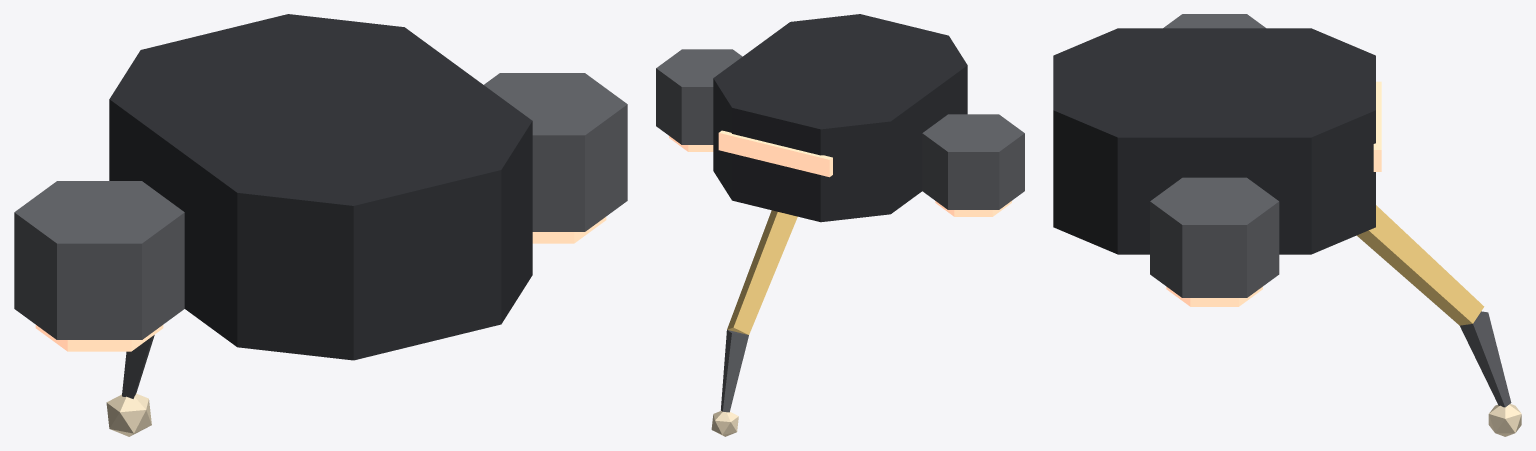
The model's file is Build_AegisWelder.fbx.
3 views of the same model, side by side, from view 1: azimuth 30°, elevation 25°; view 2: azimuth 150°, elevation 25°; view 3: azimuth 270°, elevation 25° (orthographic). The views are drawn at different scales.
Visible parts, largest first — view 1: AWeld_Body, AWeld_Thruster-1, AWeld_Thruster1, AWeld_Spark, AWeld_ThrustGlow-1, AWeld_Torch, AWeld_ThrustGlow1; view 2: AWeld_Body, AWeld_Thruster-1, AWeld_Thruster1, AWeld_ArmA, AWeld_Eye, AWeld_Torch, AWeld_Spark, AWeld_ThrustGlow-1; view 3: AWeld_Body, AWeld_Thruster1, AWeld_ArmA, AWeld_Torch, AWeld_Thruster-1, AWeld_Spark, AWeld_ThrustGlow1, AWeld_Eye.
Part boxes in pixels (x1,y1,x2,y2): AWeld_Body: (109,14,532,360); AWeld_Thruster-1: (14,181,184,339); AWeld_Thruster1: (484,73,627,231); AWeld_Spark: (106,393,151,436); AWeld_ThrustGlow-1: (35,325,163,351); AWeld_Torch: (122,335,154,398); AWeld_ThrustGlow1: (532,217,606,243); AWeld_Body: (713,14,967,222); AWeld_Thruster-1: (922,114,1024,209); AWeld_Thruster1: (656,49,742,144); AWeld_ArmA: (727,210,797,334); AWeld_Eye: (718,130,832,177); AWeld_Torch: (721,330,748,412); AWeld_Spark: (711,411,738,436); AWeld_ThrustGlow-1: (935,201,1011,216); AWeld_Body: (1053,28,1375,254); AWeld_Thruster1: (1150,177,1279,297); AWeld_ArmA: (1357,205,1484,325); AWeld_Torch: (1460,311,1511,407); AWeld_Thruster-1: (1163,14,1265,28); AWeld_Spark: (1488,404,1521,436); AWeld_ThrustGlow1: (1166,286,1262,306); AWeld_Eye: (1373,81,1381,171).
Size of the model in its own units: 0.3093 by 0.242 by 0.2902.
